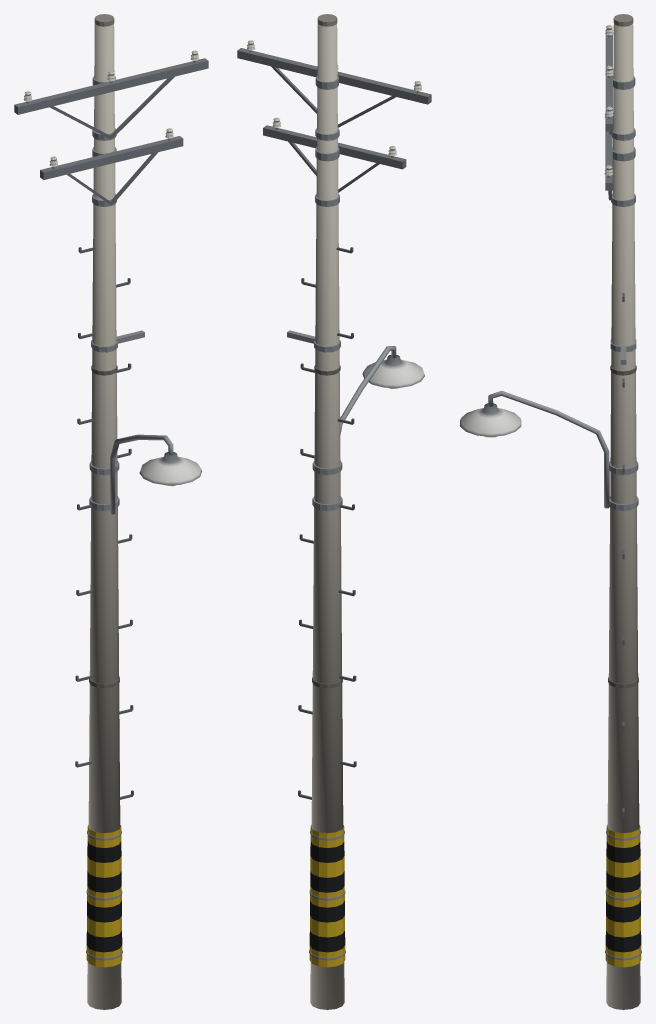
The model's file is pole_lamp.glb.
3 renders of one model, left to right at view 1: azimuth 30°, elevation 25°; view 2: azimuth 150°, elevation 25°; view 3: azimuth 270°, elevation 25°, orthographic.
Parts seen in each view (by area): view 1: pole_lamp; view 2: pole_lamp; view 3: pole_lamp.
Boxes of the visible parts, x1,y1,x2,y2 form: pole_lamp: (14,14,208,1009); pole_lamp: (237,14,431,1009); pole_lamp: (460,14,641,1009).
Size of the model in its own units: 2.24 by 11.05 by 1.85.
